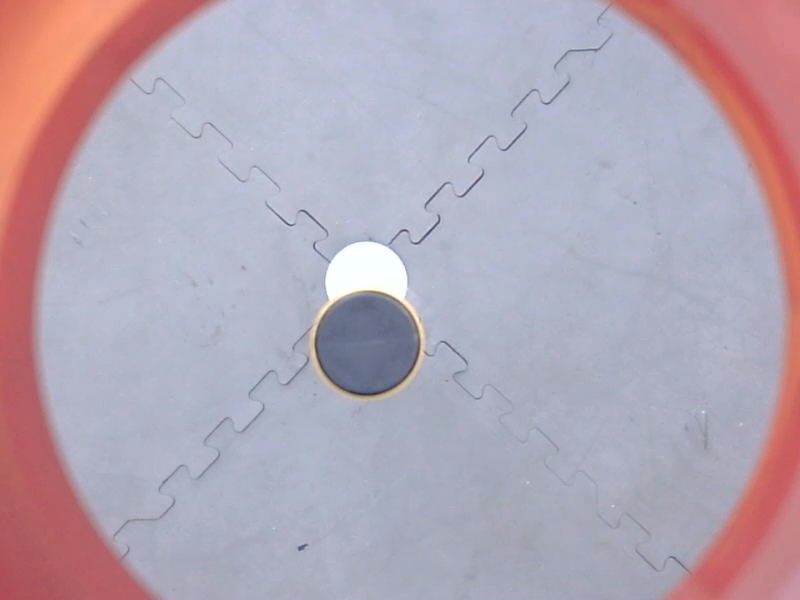tip: (302, 282, 429, 407)
